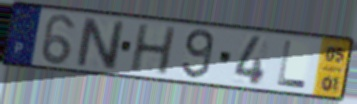4: (233, 34, 268, 87)
6: (38, 11, 77, 67)
9: (180, 28, 216, 81)
H: (127, 22, 179, 78)
L: (275, 39, 309, 90)
N: (75, 15, 126, 72)
